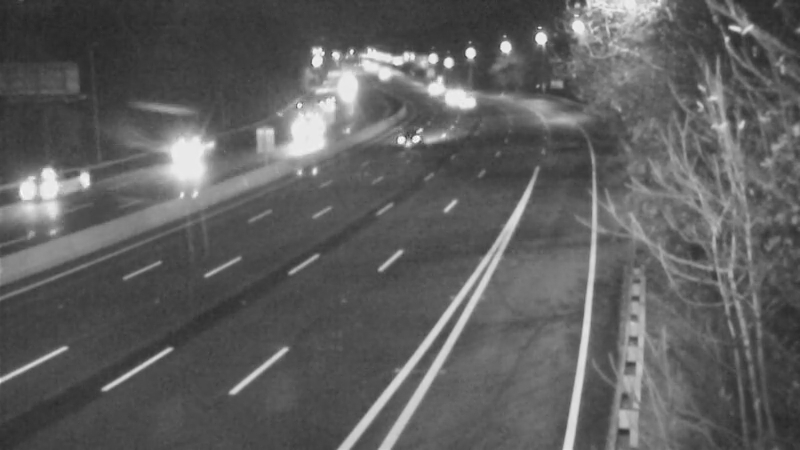vehicle: (7, 144, 87, 224), (407, 63, 457, 113), (423, 74, 473, 124), (440, 79, 490, 129), (390, 110, 440, 160), (159, 124, 209, 174), (273, 103, 323, 153)
